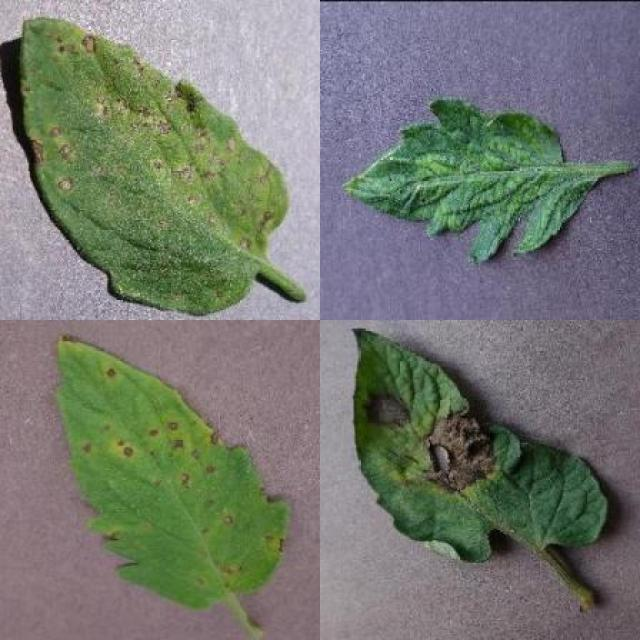Late Blight: (353, 324, 610, 566)
Mosaic Virus: (340, 95, 590, 262)
Septoria: (23, 16, 290, 316), (57, 335, 290, 611)
